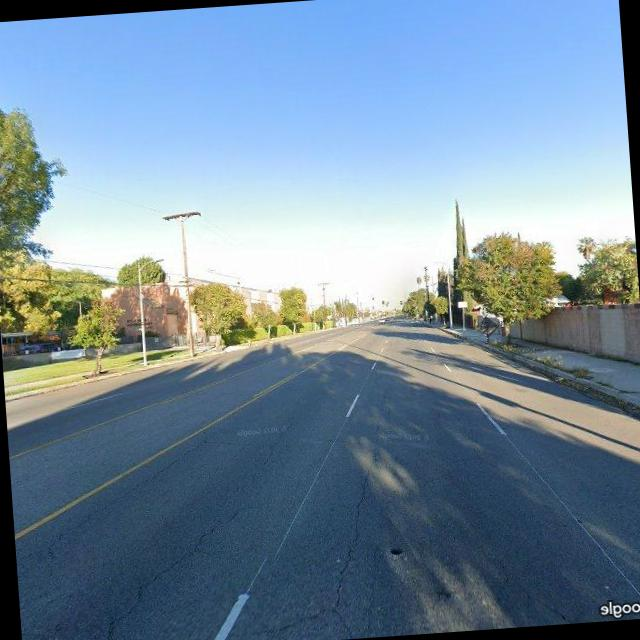pothole: (68, 510, 255, 640), (320, 405, 398, 615), (86, 425, 230, 511)
